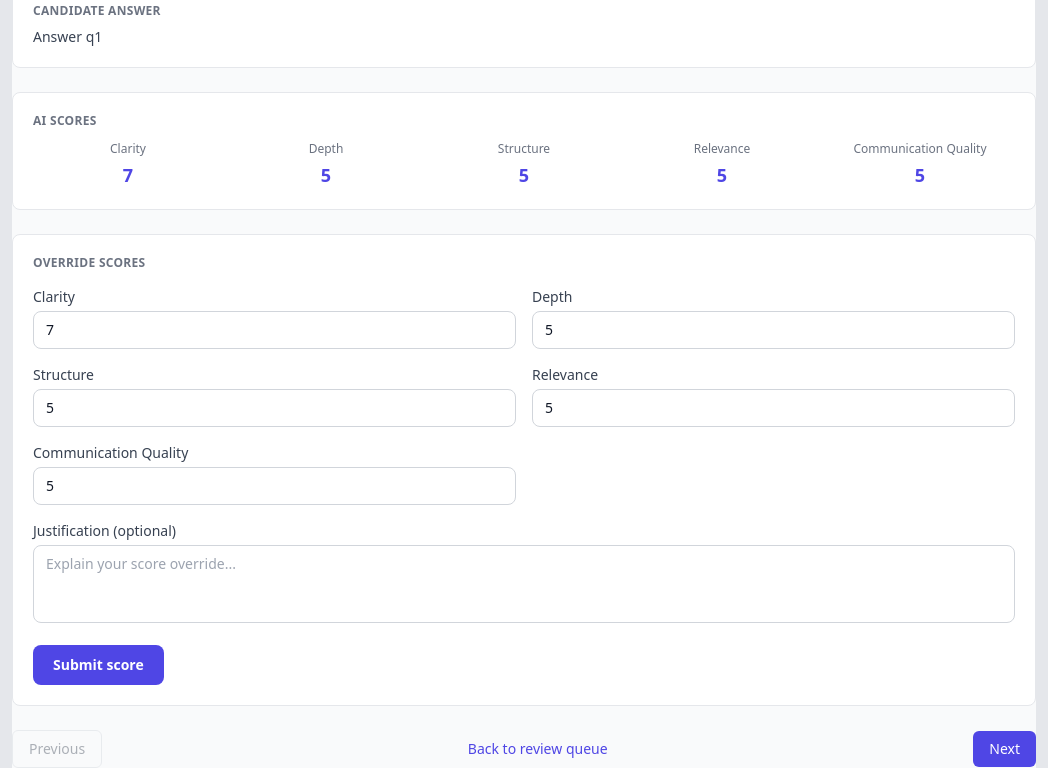
Test: CoachSessionReviewPage › clears justification and resets scores when Next is clicked
(page scrolled)
Expected: the number field labelled "Clarity" holds "7", x1=33 y1=311 x2=516 y2=349
Coach types a justification while reviewing Q1
Type "Good opening but rushed the middle." into the text box labelled "Justification (optional)". click: [524, 584]
box: x1=33 y1=545 x2=1015 y2=623
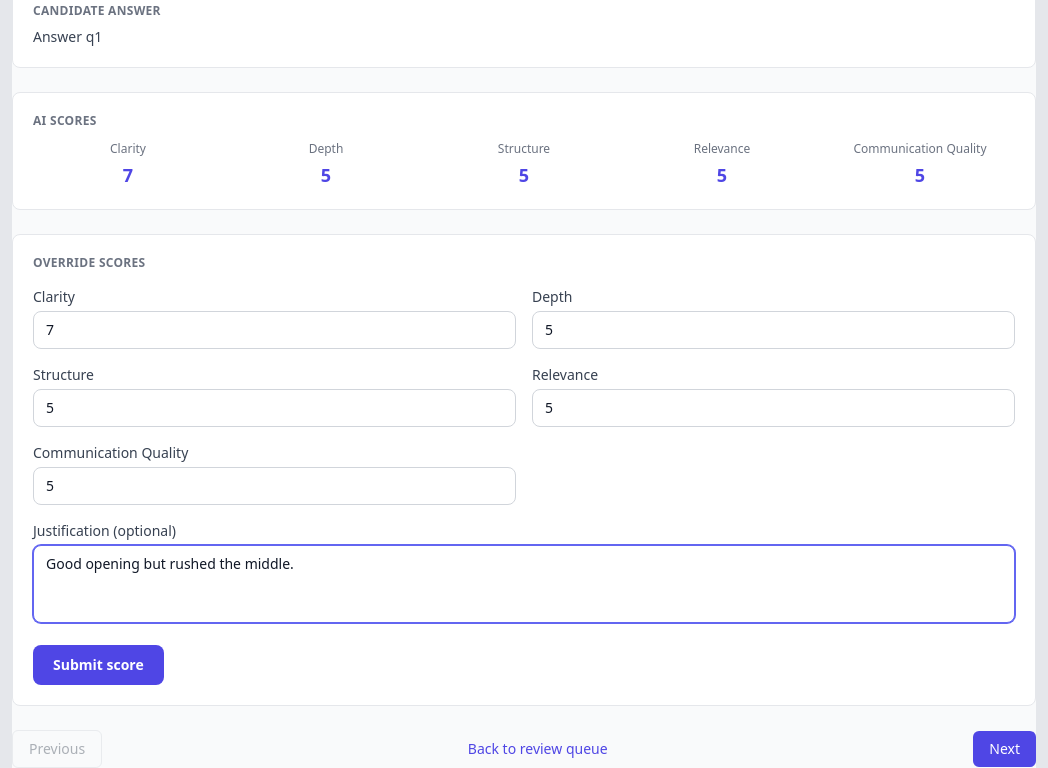
Coach changes clarity score manually
Replace the text in the number field labelled "Clarity" with "9". click: [274, 330]
box: x1=33 y1=311 x2=516 y2=349
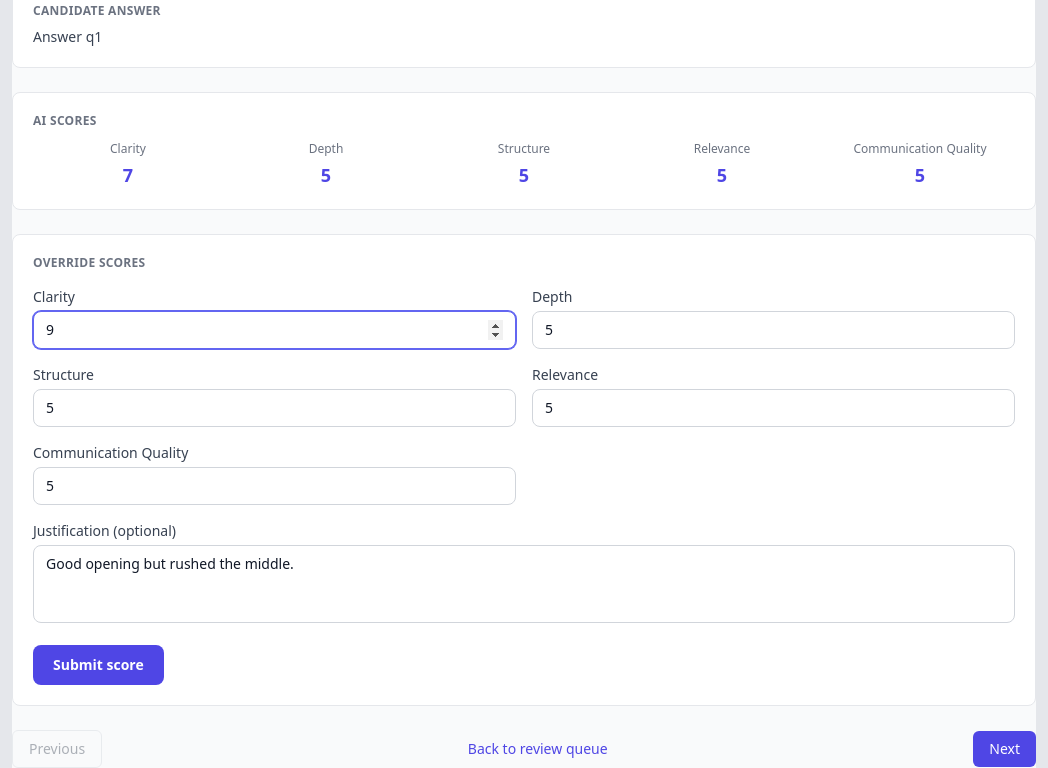
Move to Q2
Click the button "Next". click: [1005, 749]
box: x1=973 y1=731 x2=1036 y2=767
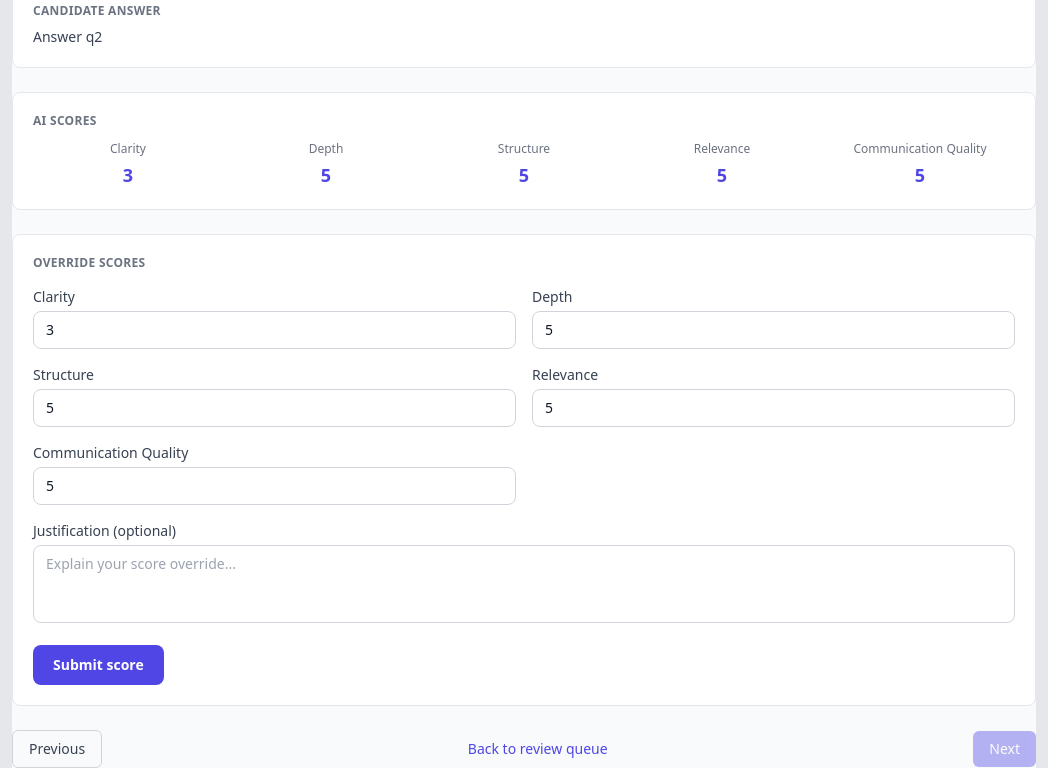
Expected: the text box labelled "Justification (optional)" is empty, x1=33 y1=545 x2=1015 y2=623
Expected: the number field labelled "Clarity" holds "3", x1=33 y1=311 x2=516 y2=349
